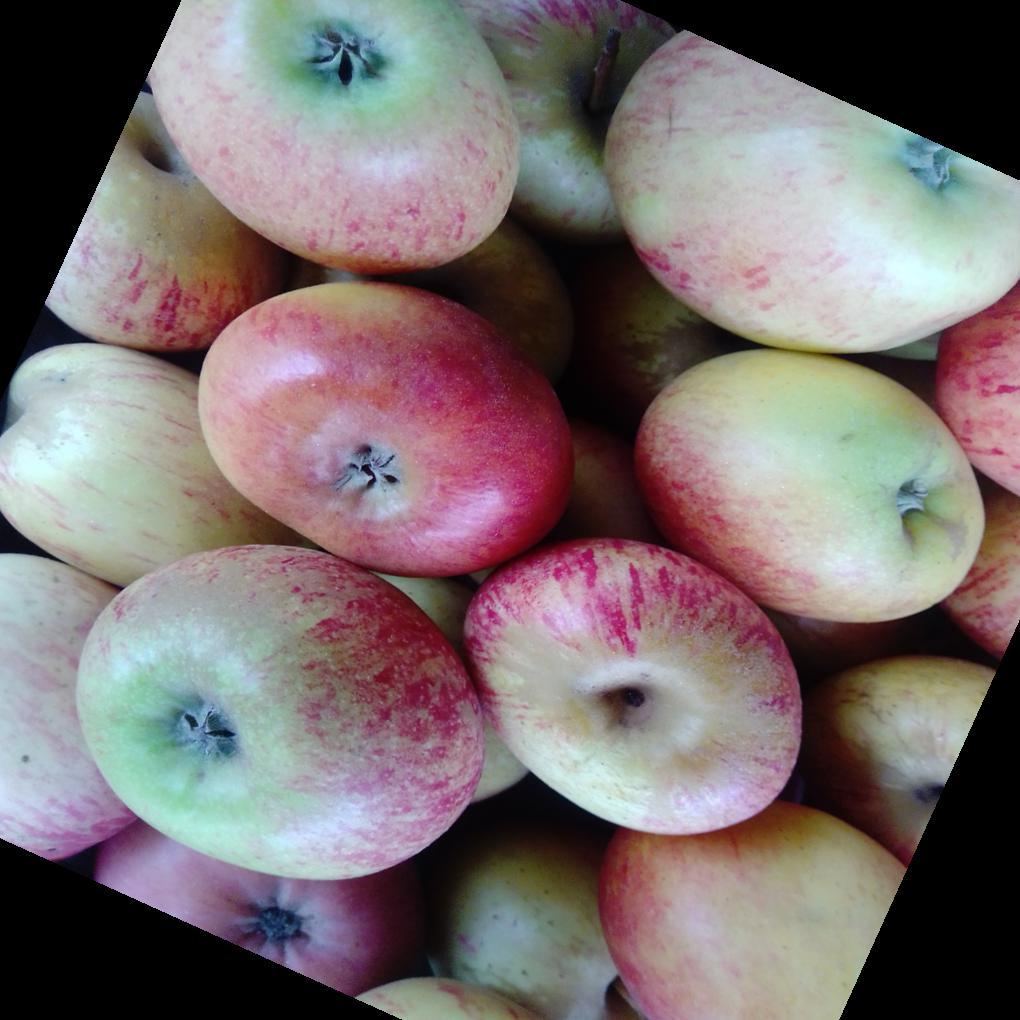FreshGuava: (18, 13, 1020, 1020)
